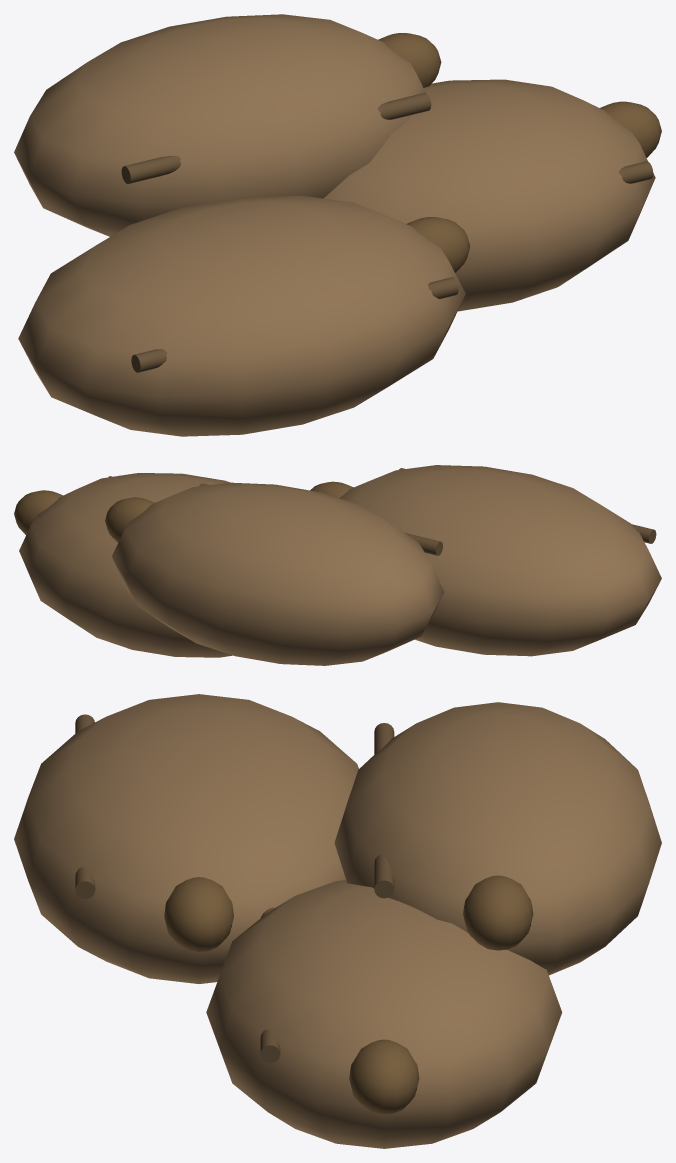
File: CMU3DMaterialLeisureSandbagsFull5Cloud.glb
The picture shows the model from 3 angles, top to bottom: view 1: azimuth 30°, elevation 25°; view 2: azimuth 150°, elevation 25°; view 3: azimuth 270°, elevation 25°; orthographic projection. The views are drawn at different scales.
Parts seen in each view (by area): view 1: filled burlap sack 0, filled burlap sack 2, filled burlap sack 1, sewn bag seam 2, tied sack neck 2, tied sack neck 0, tied sack neck 1, sewn bag seam 0; view 2: filled burlap sack 2, filled burlap sack 0, filled burlap sack 1, tied sack neck 2, tied sack neck 1, tied sack neck 0, sewn bag seam 2; view 3: filled burlap sack 0, filled burlap sack 1, filled burlap sack 2, tied sack neck 1, tied sack neck 2, tied sack neck 0, sewn bag seam 2, sewn bag seam 0.
Boxes of the visible parts, x1,y1,x2,y2 form: filled burlap sack 0: (18, 195, 465, 436); filled burlap sack 2: (14, 14, 425, 236); filled burlap sack 1: (324, 79, 655, 311); sewn bag seam 2: (121, 93, 431, 183); tied sack neck 2: (378, 33, 441, 87); tied sack neck 0: (406, 217, 470, 272); tied sack neck 1: (600, 101, 661, 157); sewn bag seam 0: (131, 277, 458, 372); filled burlap sack 2: (112, 482, 444, 665); filled burlap sack 0: (339, 465, 661, 656); filled burlap sack 1: (19, 473, 232, 657); tied sack neck 2: (105, 497, 154, 542); tied sack neck 1: (14, 490, 62, 534); tied sack neck 0: (310, 481, 353, 498); sewn bag seam 2: (199, 483, 442, 555); filled burlap sack 0: (14, 694, 358, 983); filled burlap sack 1: (206, 880, 562, 1148); filled burlap sack 2: (334, 702, 661, 975); tied sack neck 1: (349, 1039, 419, 1114); tied sack neck 2: (463, 875, 533, 950); tied sack neck 0: (164, 877, 233, 952); sewn bag seam 2: (374, 723, 394, 898); sewn bag seam 0: (75, 714, 95, 899).
Size of the model in its own units: 0.618 by 0.209 by 0.455.
